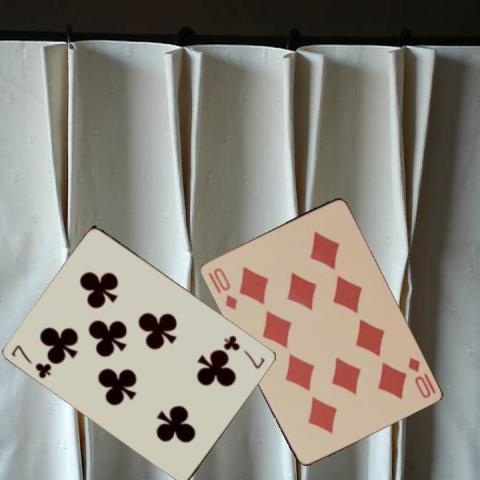10d: (404, 353, 436, 400), (210, 265, 238, 311)
7c: (221, 332, 267, 370), (9, 341, 53, 380)
